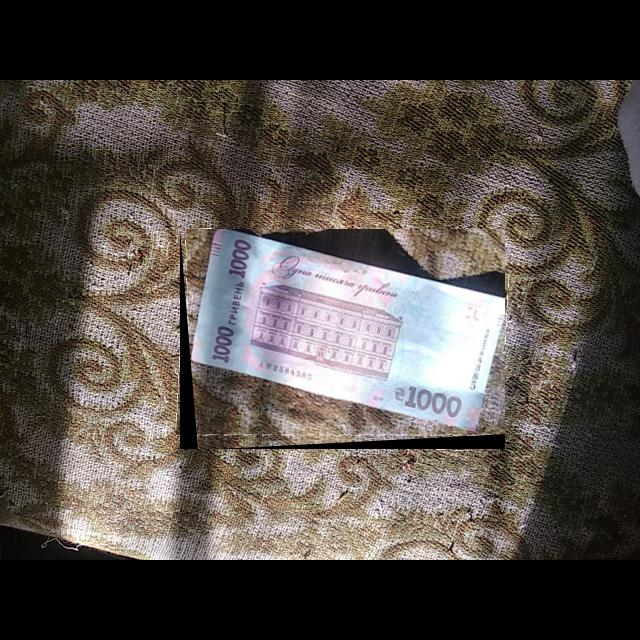1000uah: (189, 229, 506, 439)
